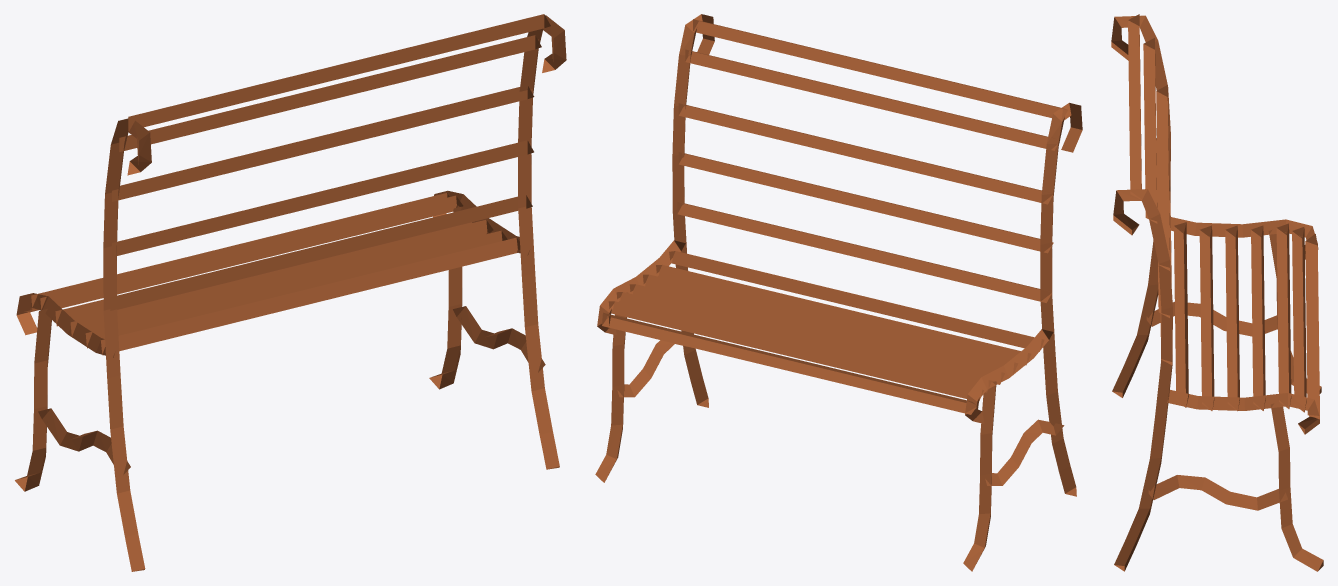
File: bench_from_asc.gltf
3 renders of one model, left to right at view 1: azimuth 30°, elevation 25°; view 2: azimuth 150°, elevation 25°; view 3: azimuth 270°, elevation 25°, orthographic. The views are drawn at different scales.
Size of the model in its own units: 2 by 2 by 1.
